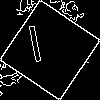I: (25, 25, 47, 72)
